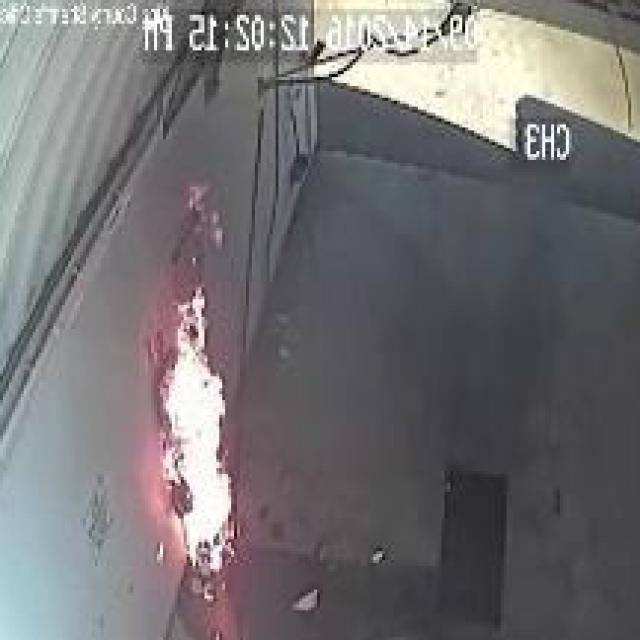smoke: (145, 270, 246, 578)
